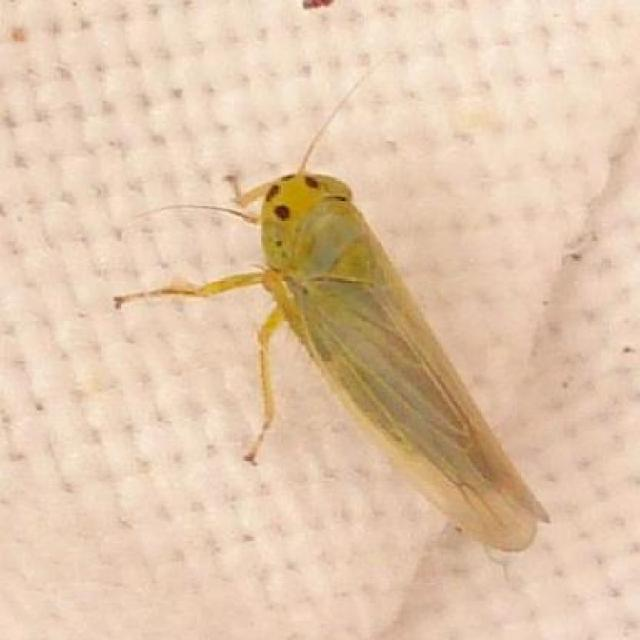green-leafhopper: (260, 171, 551, 553)
